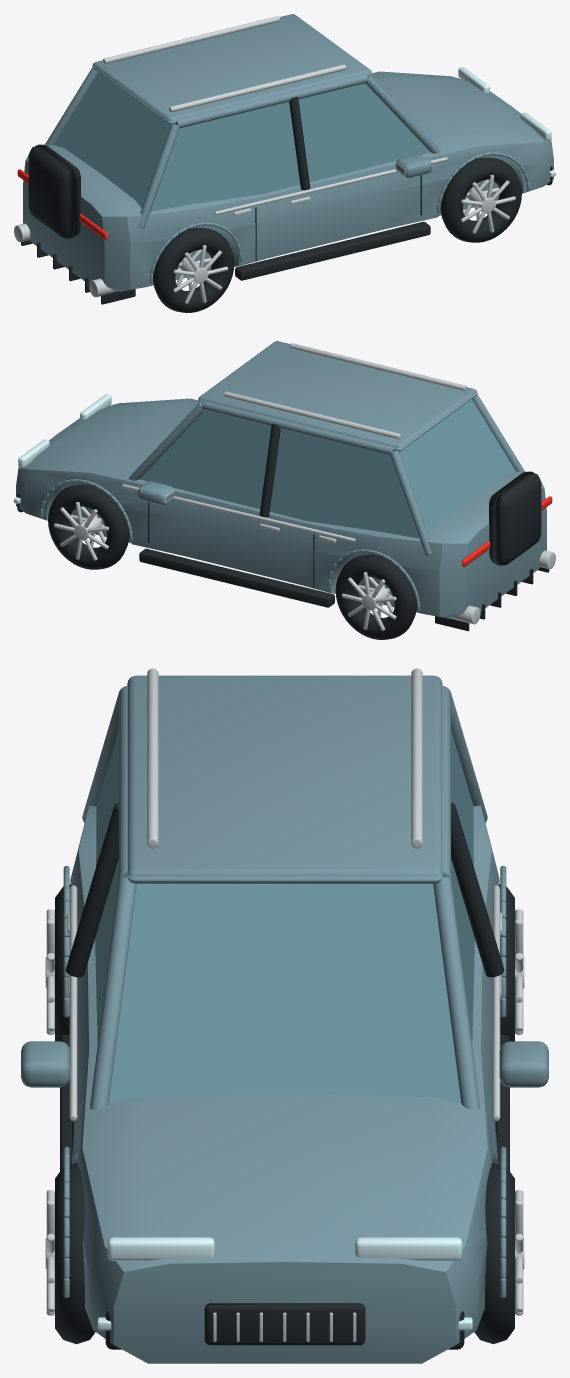
The model's file is TrailSUV.fbx.
3 renders of one model, top to bottom at view 1: azimuth 30°, elevation 25°; view 2: azimuth 150°, elevation 25°; view 3: azimuth 270°, elevation 25°, orthographic. The views are drawn at different scales.
Parts seen in each view (by area): view 1: BodyPaint, Glazing, TrimRubber, BrushedAlloy, TrimRubber.002, TrimRubber.001, BrushedAlloy.001, BrushedAlloy.002, Headlamp; view 2: BodyPaint, Glazing, TrimRubber, BrushedAlloy, TrimRubber.004, TrimRubber.003, BrushedAlloy.003, BrushedAlloy.004, Headlamp; view 3: BodyPaint, Glazing, TrimRubber, BrushedAlloy, Headlamp, TrimRubber.002, TrimRubber.004, TrimRubber.001, TrimRubber.003, BrushedAlloy.002, BrushedAlloy.004, BrushedAlloy.001 (+1 smaller).
Part boxes in pixels (box(x1,y1,x2,y2)): BodyPaint: box(23, 14, 553, 291); Glazing: box(54, 72, 429, 211); TrimRubber: box(21, 96, 552, 304); BrushedAlloy: box(14, 16, 447, 297); TrimRubber.002: box(440, 157, 521, 242); TrimRubber.001: box(153, 227, 234, 312); BrushedAlloy.001: box(173, 245, 228, 303); BrushedAlloy.002: box(461, 175, 515, 233); Headlamp: box(458, 67, 555, 176); BodyPaint: box(16, 341, 546, 618); Glazing: box(140, 399, 516, 538); TrimRubber: box(17, 423, 549, 631); BrushedAlloy: box(122, 343, 555, 624); TrimRubber.004: box(48, 484, 129, 569); TrimRubber.003: box(335, 554, 416, 639); BrushedAlloy.003: box(341, 572, 396, 630); BrushedAlloy.004: box(54, 502, 108, 560); Headlamp: box(14, 394, 111, 503); BodyPaint: box(21, 675, 548, 1363); Glazing: box(95, 730, 474, 1103); TrimRubber: box(60, 803, 509, 1349); BrushedAlloy: box(67, 668, 502, 1341); Headlamp: box(97, 1237, 472, 1330); TrimRubber.002: box(55, 1163, 95, 1344); TrimRubber.004: box(474, 1163, 514, 1344); TrimRubber.001: box(55, 884, 70, 1041); TrimRubber.003: box(499, 884, 514, 1041); BrushedAlloy.002: box(45, 1190, 54, 1315); BrushedAlloy.004: box(515, 1190, 524, 1315); BrushedAlloy.001: box(45, 909, 54, 1034).
Size of the model in its own units: 530 by 205 by 256.
